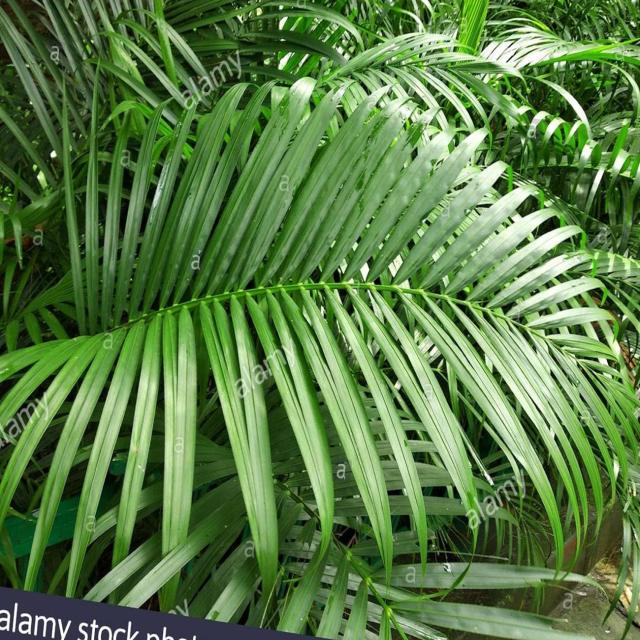Healthy_Leaf: (109, 104, 618, 572)
